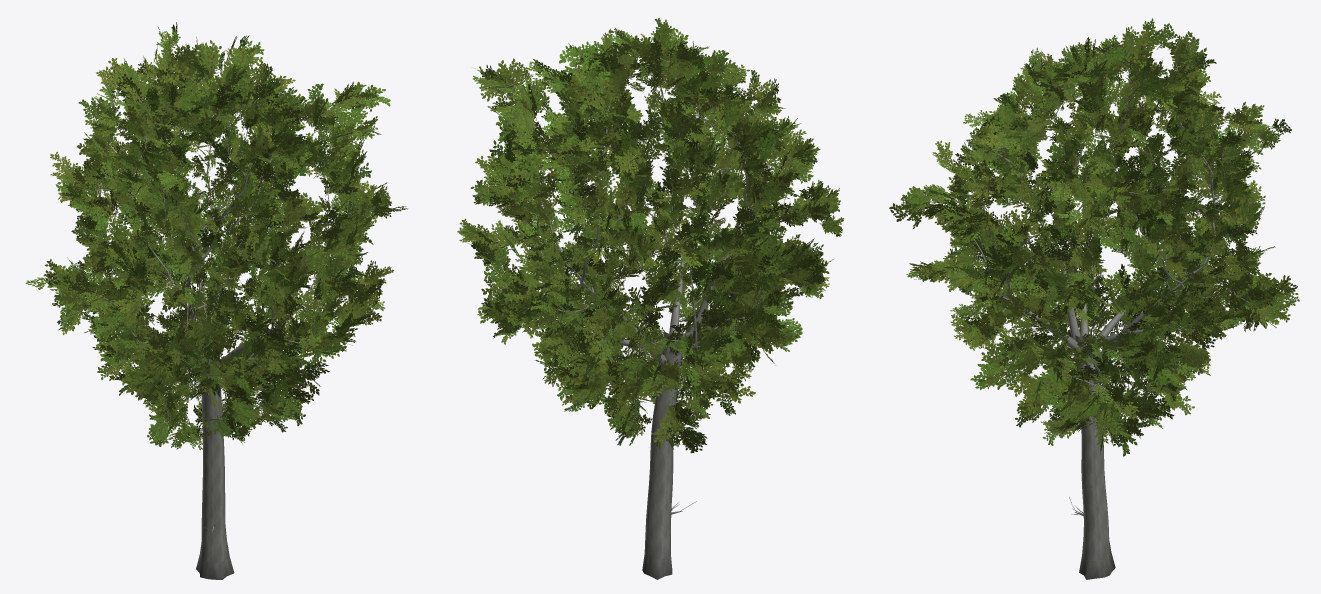
Rendered from buk_stary.glb.
The picture shows the model from 3 angles, left to right: view 1: azimuth 30°, elevation 25°; view 2: azimuth 150°, elevation 25°; view 3: azimuth 270°, elevation 25°; orthographic projection. The views are drawn at different scales.
Parts seen in each view (by area): view 1: buk_stary; view 2: buk_stary; view 3: buk_stary.
Boxes of the visible parts, x1,y1,x2,y2 form: buk_stary: (25, 22, 407, 579); buk_stary: (457, 18, 843, 579); buk_stary: (889, 18, 1299, 579).
Bounding box in the file's own units: 16.79 × 24.41 × 17.09.
2 materials, 2 textured.
